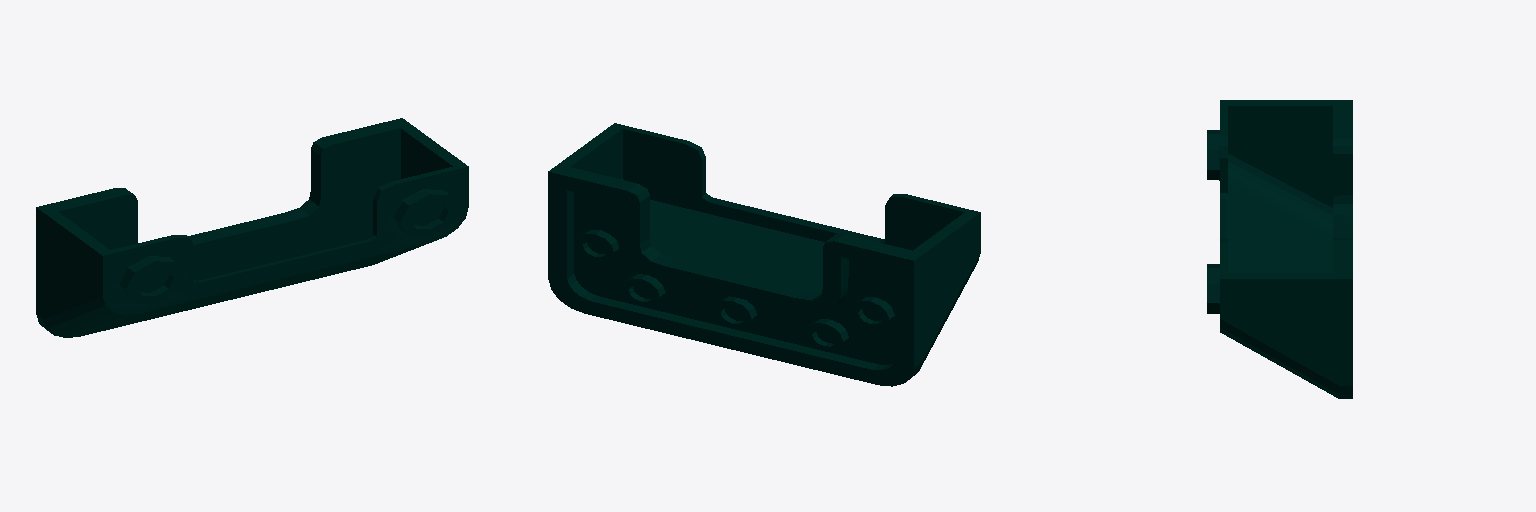
File: blocvitre.obj
3 views of the same model, side by side, from view 1: azimuth 30°, elevation 25°; view 2: azimuth 150°, elevation 25°; view 3: azimuth 270°, elevation 25° (orthographic).
Visible parts, largest first — view 1: Lego_Bricks_Random_Pieces_convert.006; view 2: Lego_Bricks_Random_Pieces_convert.006; view 3: Lego_Bricks_Random_Pieces_convert.006.
Part boxes in pixels (x1,y1,x2,y2): Lego_Bricks_Random_Pieces_convert.006: (36,118,468,337); Lego_Bricks_Random_Pieces_convert.006: (548,123,980,386); Lego_Bricks_Random_Pieces_convert.006: (1207,100,1352,398).
Size of the model in its own units: 3.11 by 1.08 by 1.08.